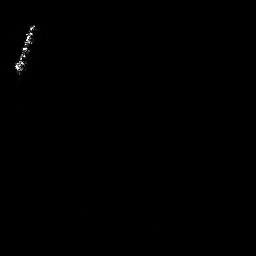ship: (13, 23, 36, 78)
